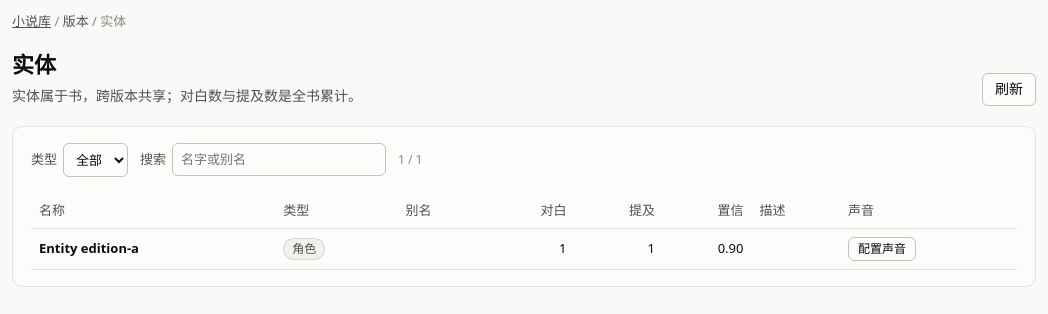
it: EntitiesPage loading and recovery › reloads only voice profiles after saving
Click the button "配置声音" at coordinates (882, 249), box [848, 237, 916, 261]
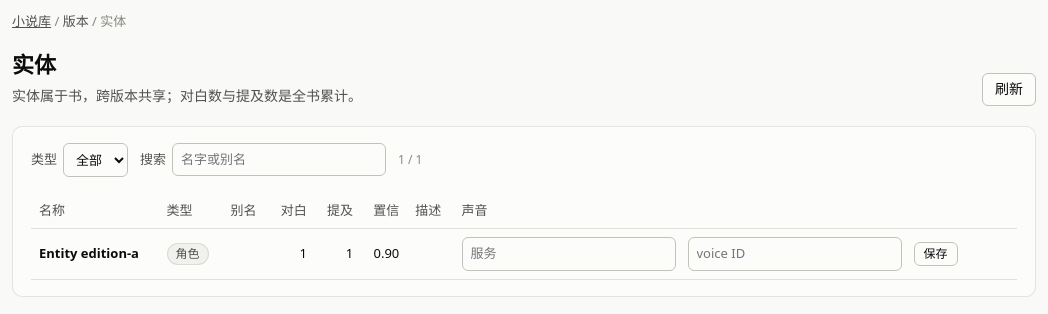
Type "test-provider" into the field named "声音服务" at coordinates (568, 254), box [462, 237, 676, 270]
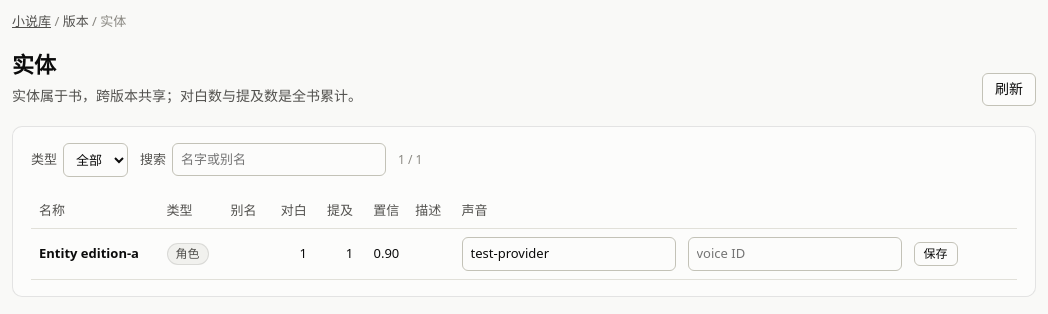
Type "voice-1" into the field named "voice ID" at coordinates (794, 254), box [688, 237, 902, 270]
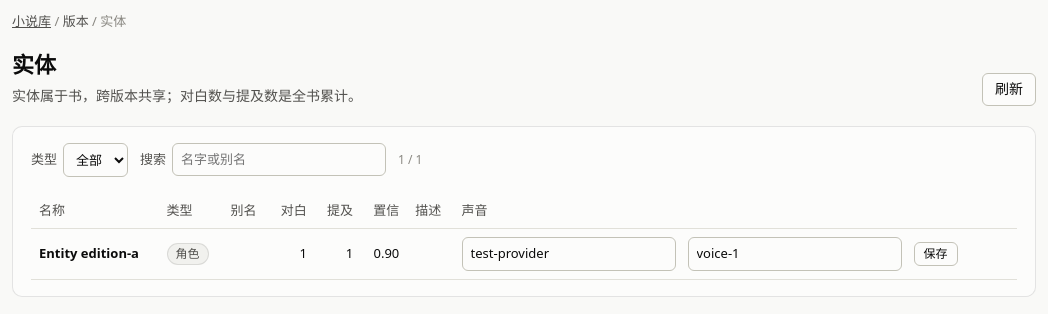
Submit the form, box [462, 237, 1009, 270]
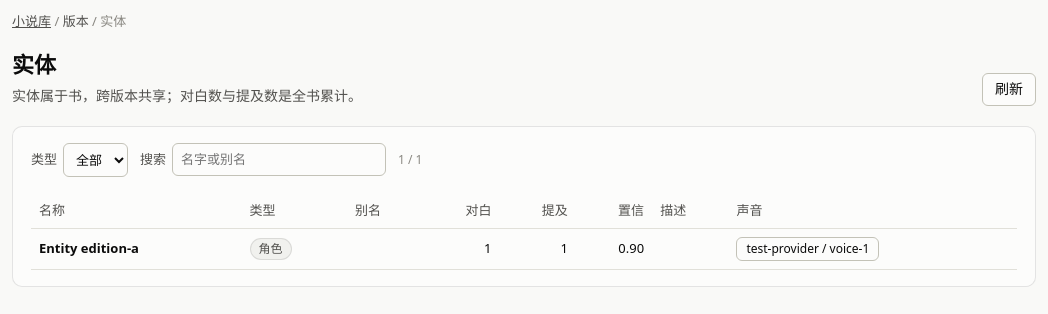
Now the text "test-provider / voice-1" is shown, box [736, 237, 879, 261]
